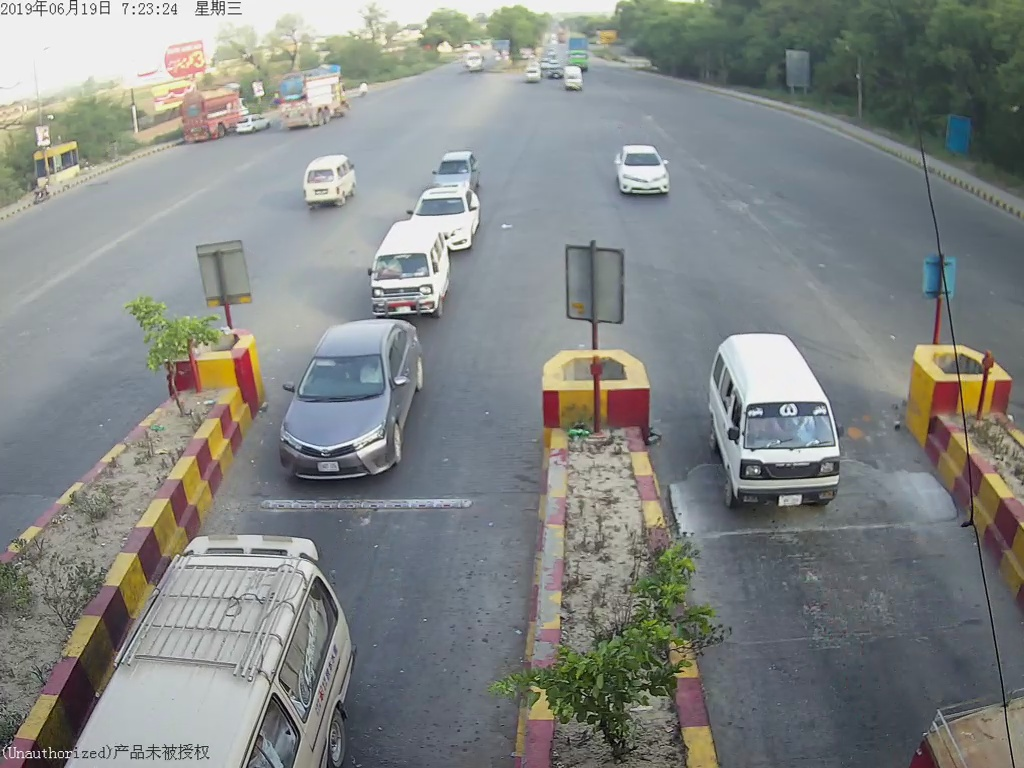Cat-1: (283, 319, 436, 479), (707, 338, 846, 507), (364, 224, 455, 317), (612, 143, 674, 193)
Cat-2: (105, 555, 386, 767)
